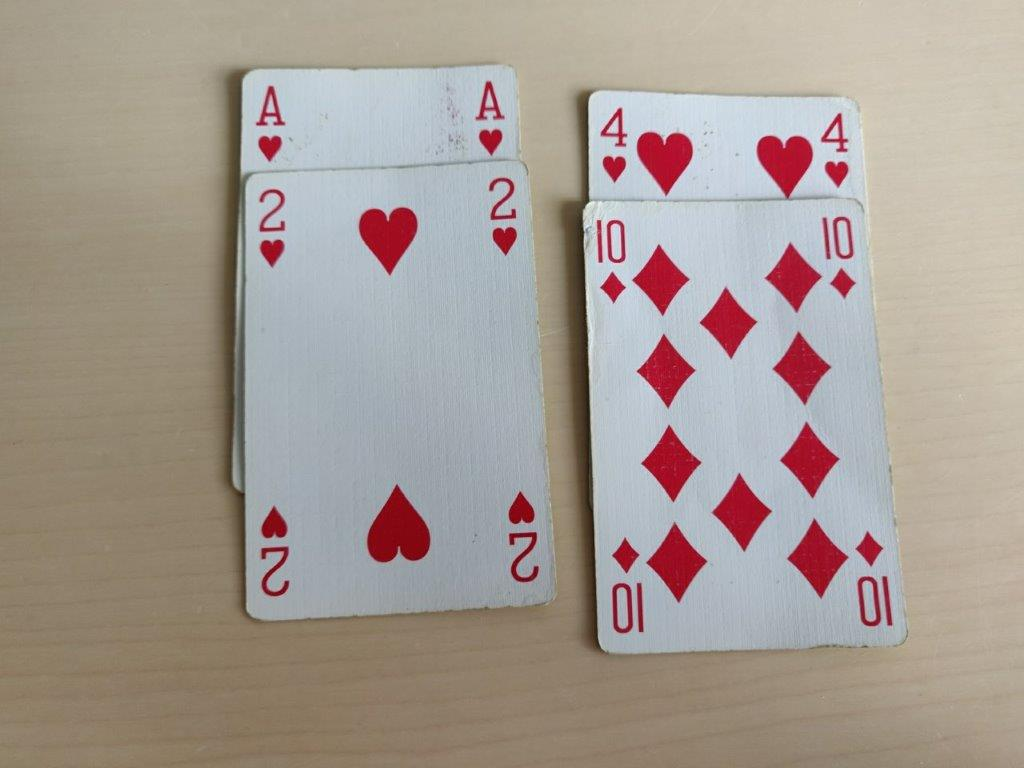10D: (813, 210, 865, 307), (592, 210, 630, 307)
2H: (479, 172, 524, 264), (253, 179, 290, 275)
4H: (816, 109, 860, 197), (594, 103, 632, 187)
AH: (470, 77, 512, 159), (252, 73, 288, 168)
